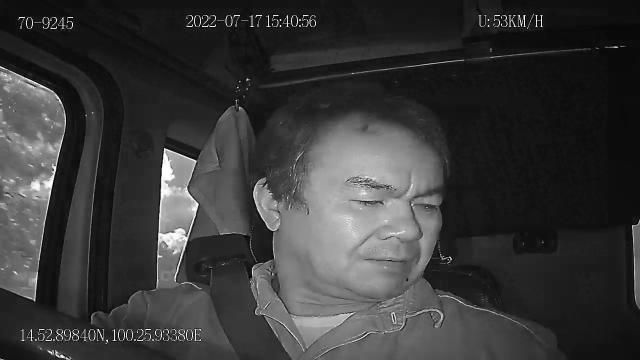SafeDriving: (340, 187, 391, 214), (406, 190, 446, 217)
Seatbelt: (208, 260, 294, 360)
